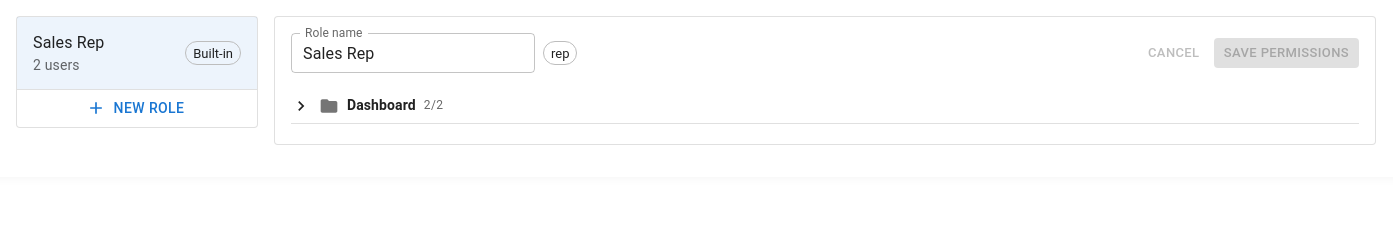
Scenario: fieldSectionLabel (Dashboard > Cards) › names the field section what the schema says instead of "Form"
Step 1. Click the heading "Dashboard" → (381, 106), box [347,95,416,117]
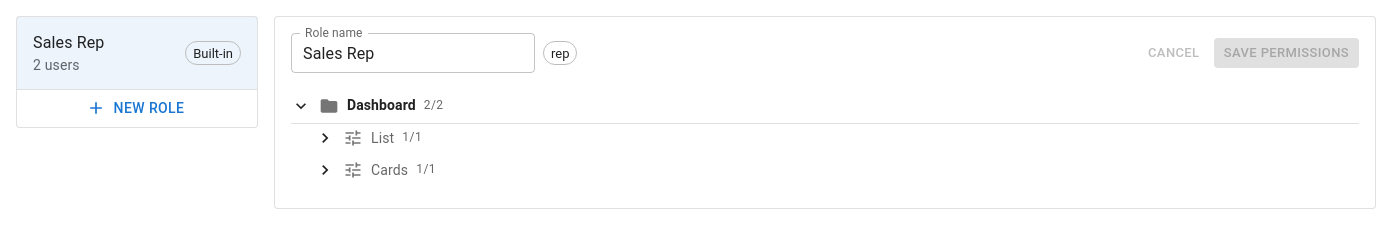
Check: the text "Cards" is shown, box [371,160,408,180]
